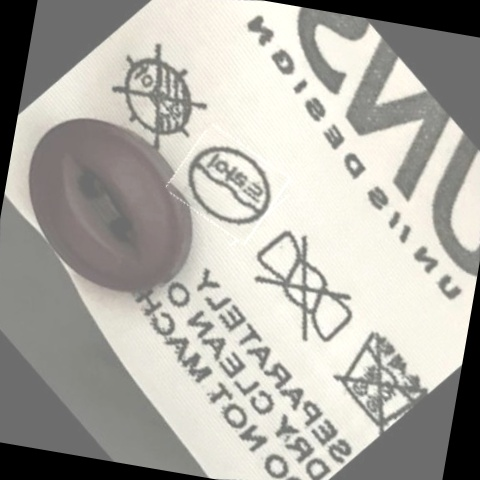DN_dry: (100, 37, 218, 157)
DN_wring: (237, 223, 370, 357)
dry_clean: (174, 130, 282, 241)
hand_wash: (322, 315, 435, 436)
